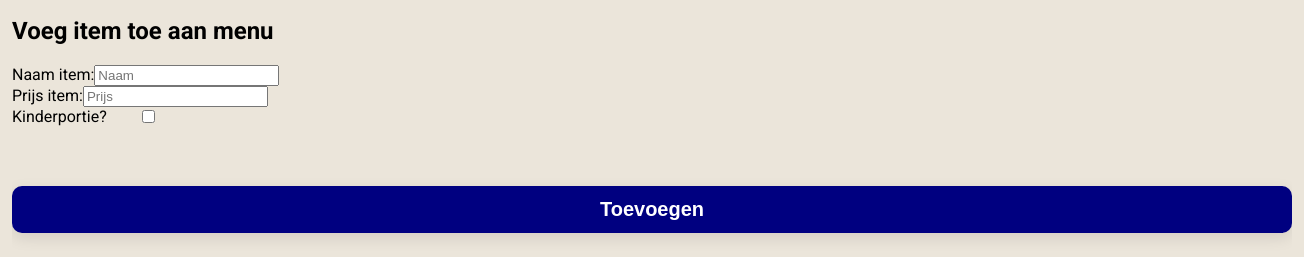
Test: AddItemOnMenu.vue › Item existence check › shows error when item already exists
Type "Bestaand item" into the field labelled "Naam item:" at (187, 75), box left=94, top=65, right=279, bottom=86
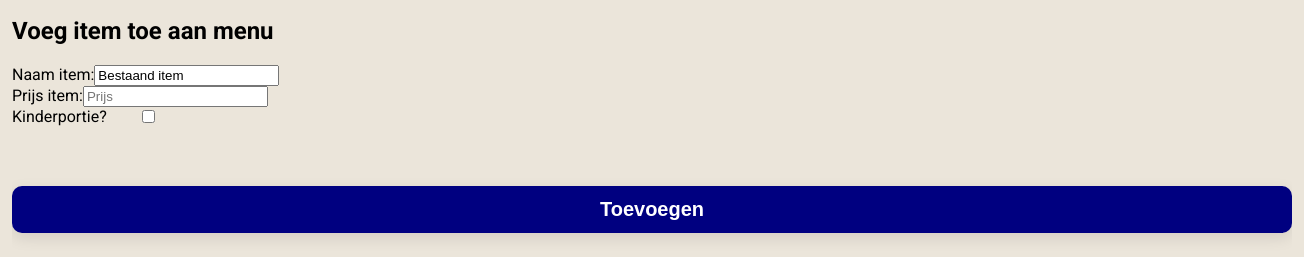
Type "10" into the number field labelled "Prijs item:" at (176, 96), box left=83, top=86, right=268, bottom=107
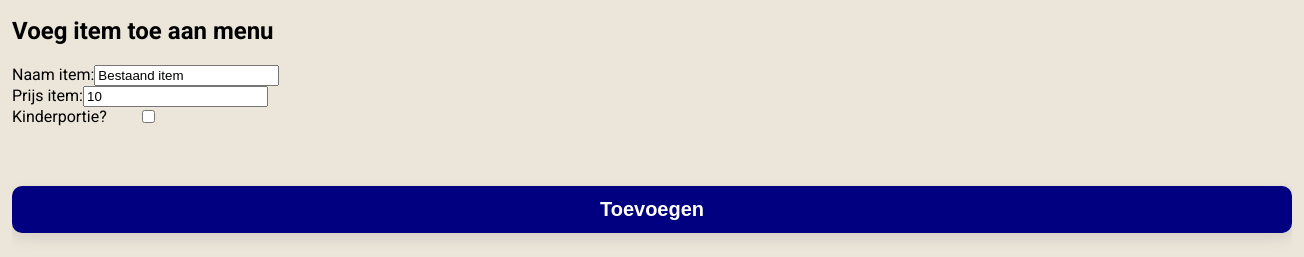
Submit the form
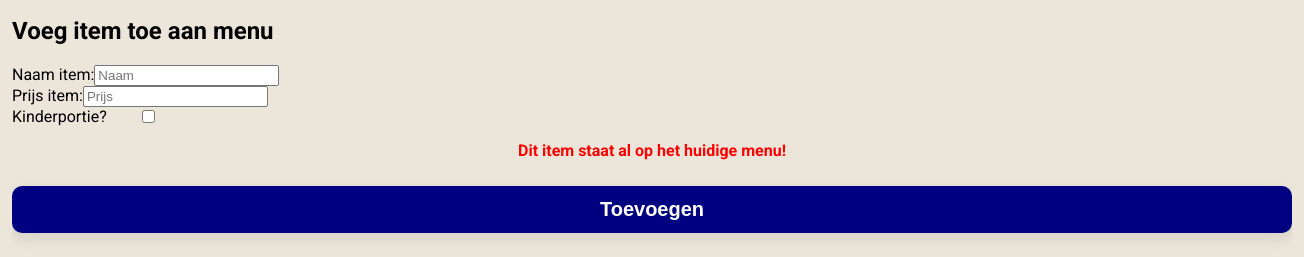
Now the text with class "status-message" reads "Dit item staat al op het huidige menu!", box left=518, top=141, right=786, bottom=160
